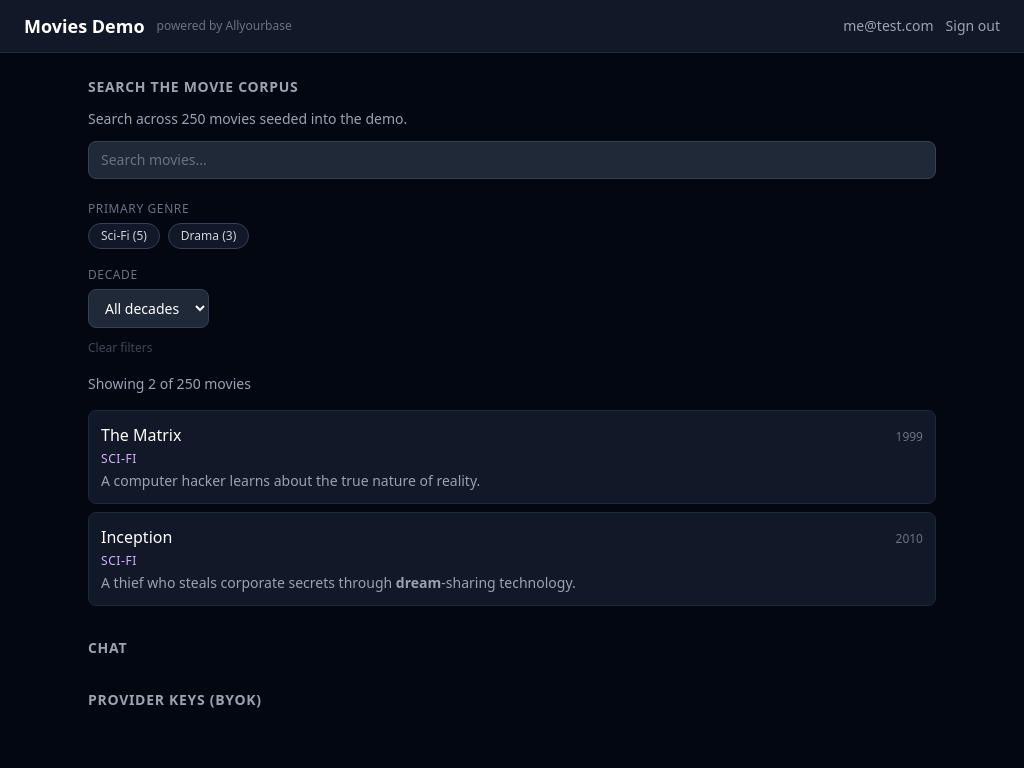
Test: App search › preserves authenticated movie results when logout fails
Expected: the heading "The Matrix" is shown, x1=101 y1=423 x2=181 y2=447
Click the button "Sign out". click: {"x": 973, "y": 26}
box: x1=946 y1=16 x2=1000 y2=36
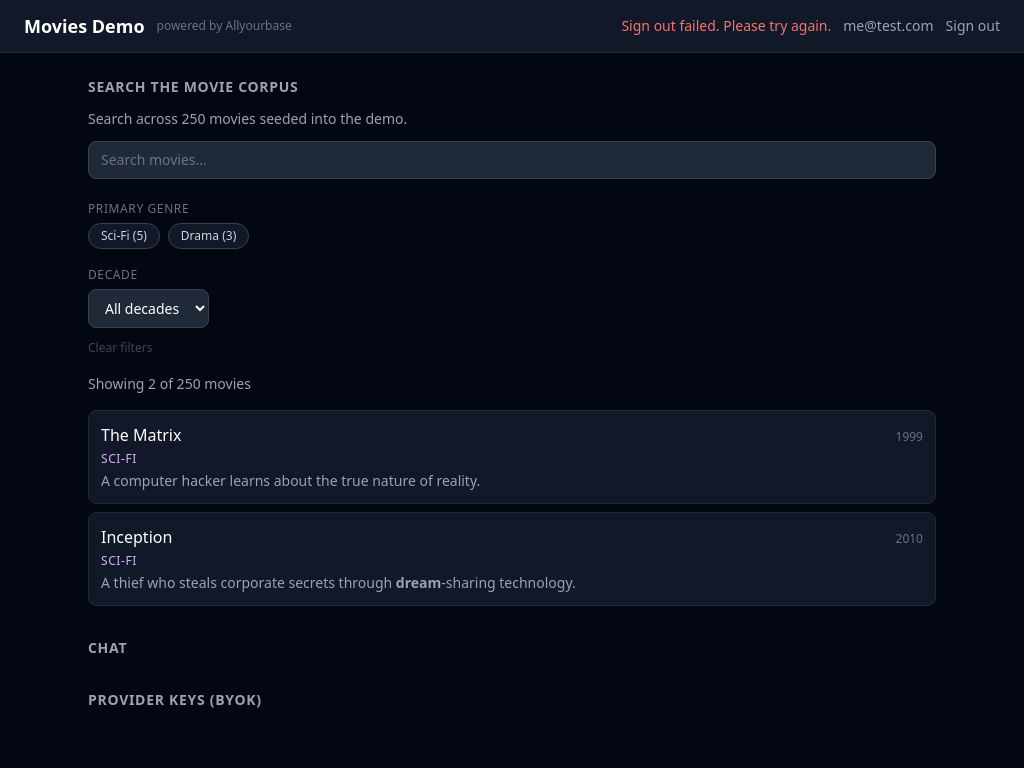
Expected: the heading "The Matrix" is shown, x1=101 y1=423 x2=181 y2=447
Result: the message "Sign out failed. Please try again." is shown at x1=621 y1=16 x2=831 y2=36
